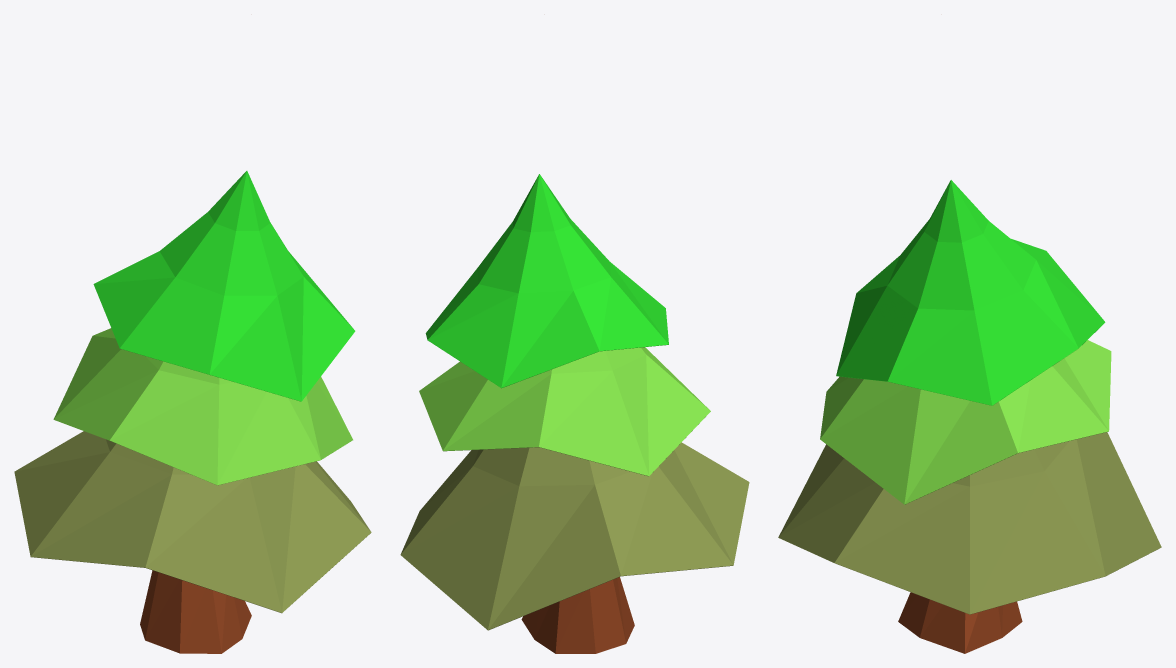
3 views of the same model, side by side, from view 1: azimuth 30°, elevation 25°; view 2: azimuth 150°, elevation 25°; view 3: azimuth 270°, elevation 25° (orthographic). The views are drawn at different scales.
Parts seen in each view (by area): view 1: Cylinder003; view 2: Cylinder003; view 3: Cylinder003.
Boxes of the visible parts, bbox=[...] form: Cylinder003: bbox=[14, 171, 371, 653]; Cylinder003: bbox=[400, 174, 749, 653]; Cylinder003: bbox=[778, 180, 1161, 653].
Bounding box in the file's own units: 898 × 1642 × 900.
